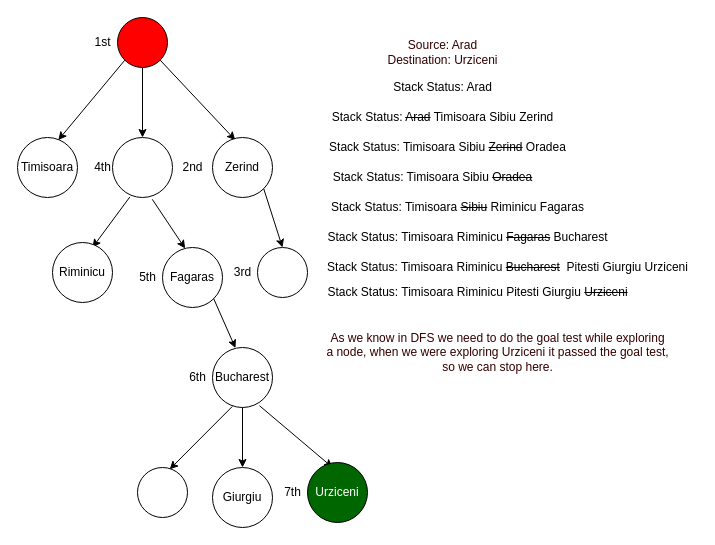
Some shapes in this 715 by 545 pixel diagram are drawn without their labels. Each missing label, with the box of its shape:
Arad: (116, 16, 168, 68)
Oradea: (256, 246, 308, 298)
Pitesti: (136, 466, 188, 518)
Sibiu: (112, 136, 172, 198)
